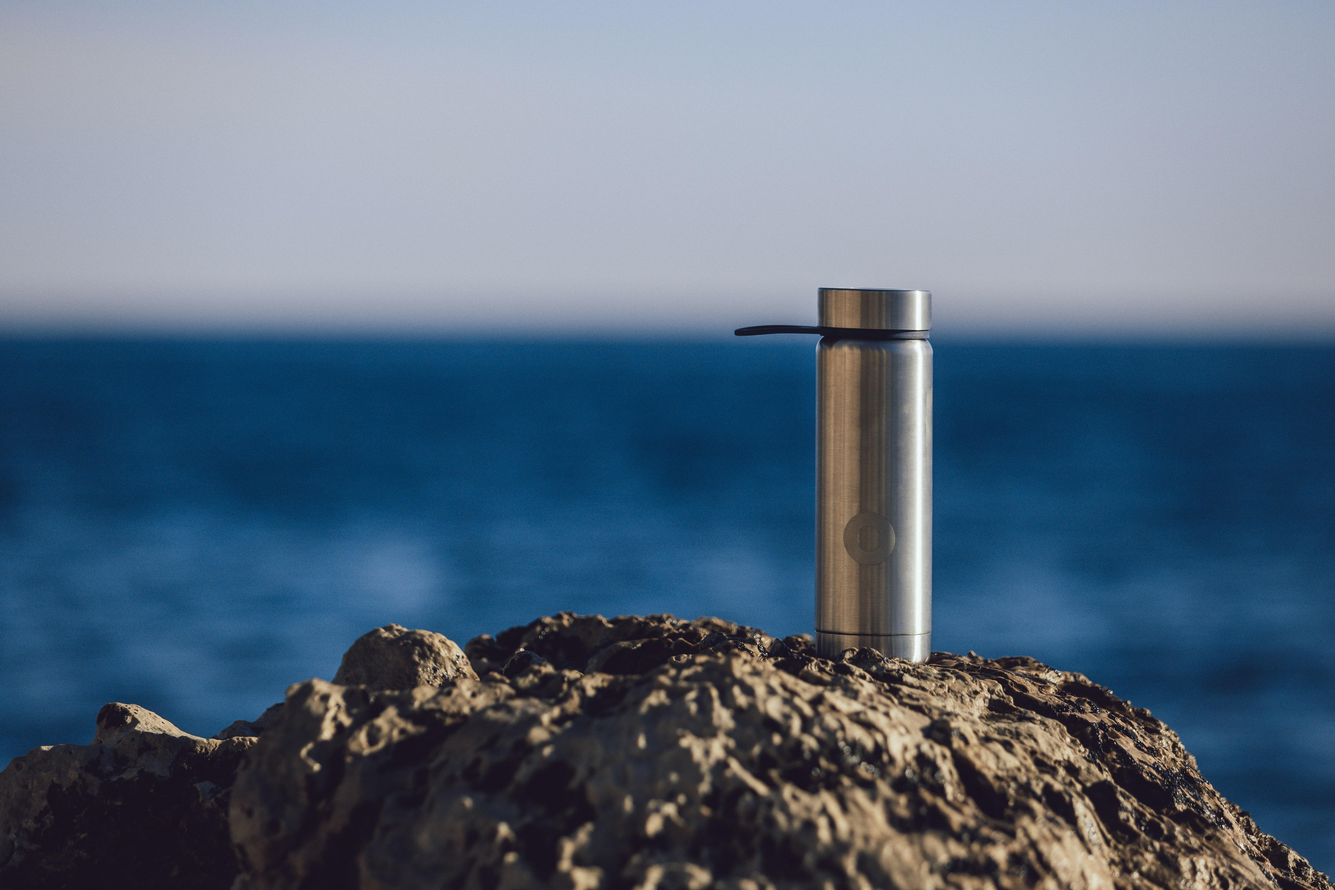Bottle-Detection: (699, 242, 1004, 707)
